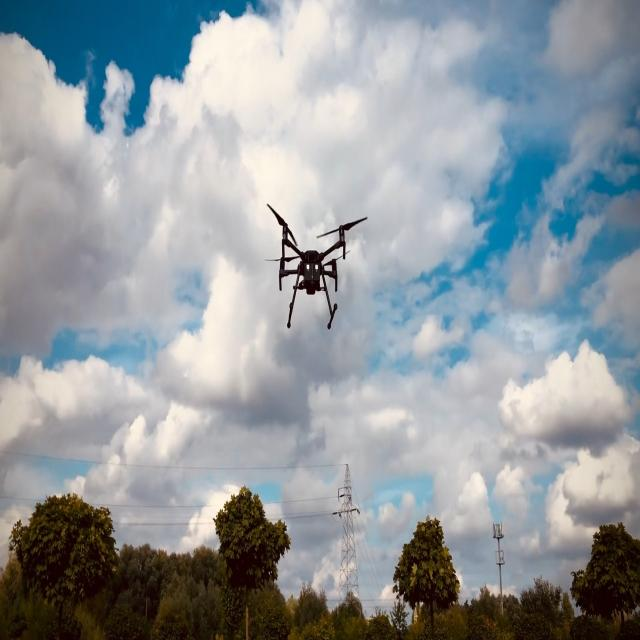drone: (264, 202, 367, 330)
